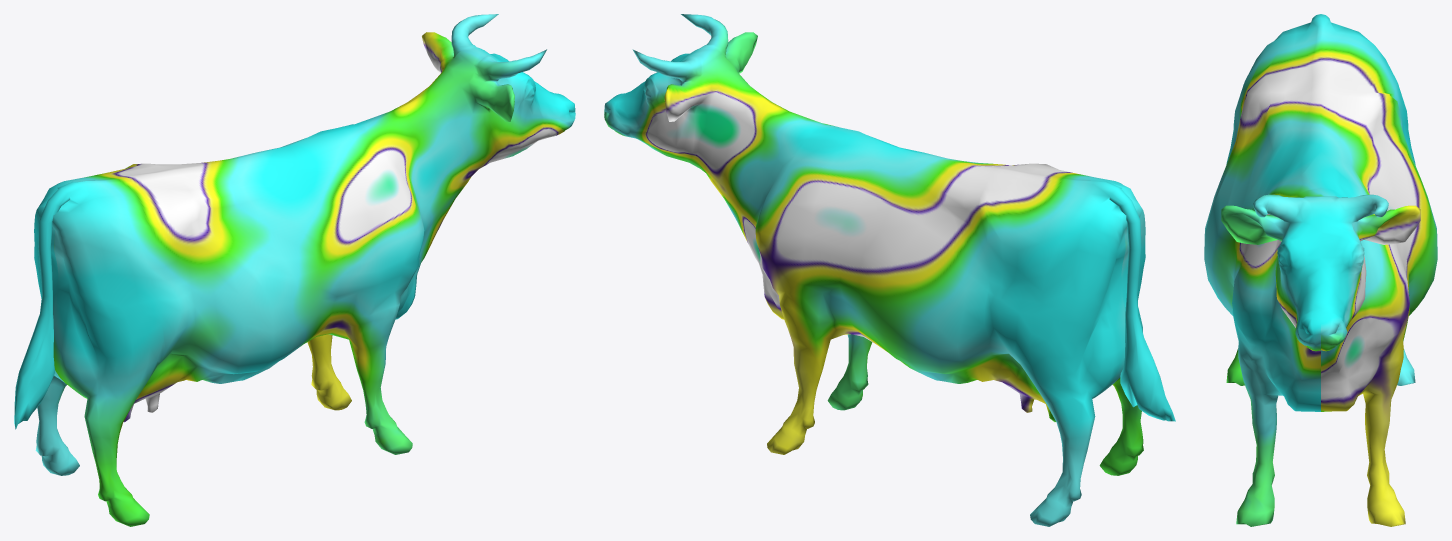
File: uvmappedcow.obj
3 renders of one model, left to right at view 1: azimuth 30°, elevation 25°; view 2: azimuth 150°, elevation 25°; view 3: azimuth 270°, elevation 25°, orthographic. The views are drawn at different scales.
Parts seen in each view (by area): view 1: unnamed_object1; view 2: unnamed_object1; view 3: unnamed_object1.
Boxes of the visible parts, x1,y1,x2,y2 form: unnamed_object1: (14, 14, 575, 526); unnamed_object1: (604, 14, 1175, 526); unnamed_object1: (1204, 14, 1437, 526).
Bounding box in the file's own units: 1.64 × 1.01 × 0.5354.
